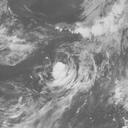cyclone: (42, 57, 82, 100)
